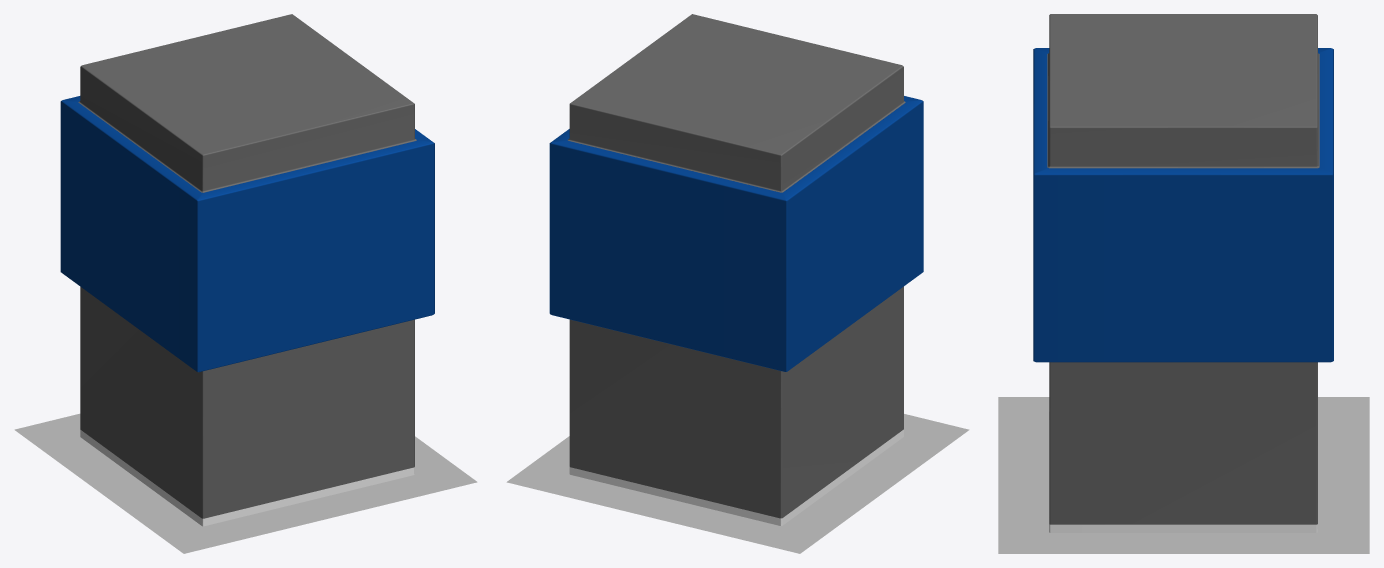
The model's file is VCTable.355cbc60.glb.
3 views of the same model, side by side, from view 1: azimuth 30°, elevation 25°; view 2: azimuth 150°, elevation 25°; view 3: azimuth 270°, elevation 25° (orthographic). The views are drawn at different scales.
Visible parts, largest first — view 1: Table1, Base_AO; view 2: Table1, Base_AO; view 3: Table1, Base_AO.
Boxes of the visible parts, <box> form: Table1: <box>60,14,434,526</box>; Base_AO: <box>14,413,477,553</box>; Table1: <box>549,14,923,525</box>; Base_AO: <box>506,414,969,553</box>; Table1: <box>1033,14,1333,532</box>; Base_AO: <box>998,397,1369,553</box>.
Bounding box in the file's own units: 0.8283 × 1 × 0.8283.
